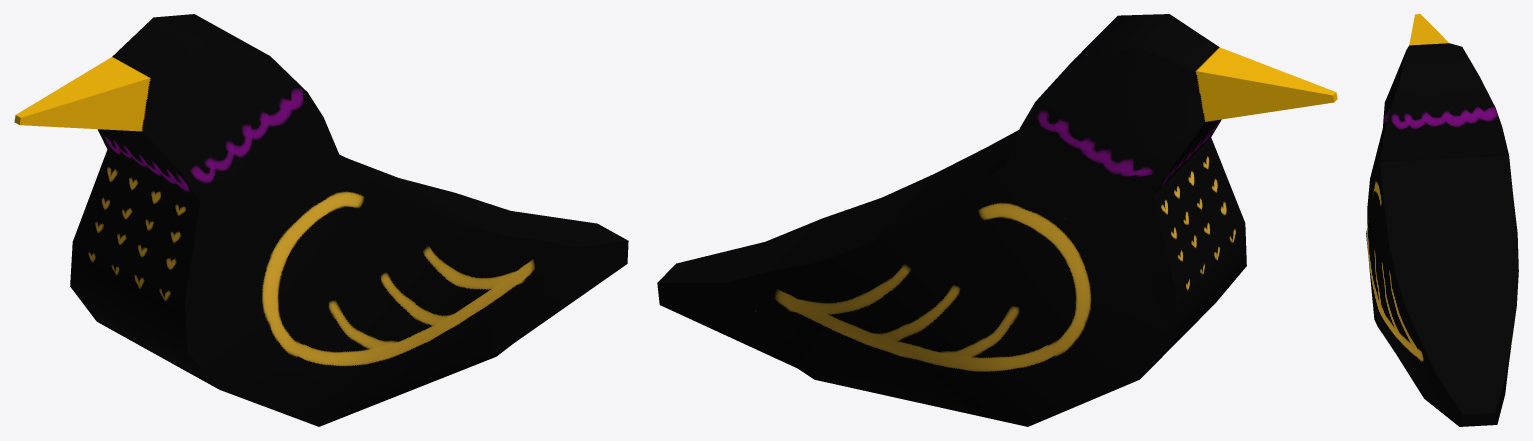
The model's file is new_body_test.fbx.
The picture shows the model from 3 angles, left to right: view 1: azimuth 30°, elevation 25°; view 2: azimuth 150°, elevation 25°; view 3: azimuth 270°, elevation 25°; orthographic projection. The views are drawn at different scales.
Parts seen in each view (by area): view 1: Cube; view 2: Cube; view 3: Cube.
Part boxes in pixels (bbox=[...]): Cube: bbox=[14, 14, 628, 426]; Cube: bbox=[657, 14, 1337, 426]; Cube: bbox=[1366, 14, 1518, 426].
Bounding box in the file's own units: 722 × 424 × 229.
